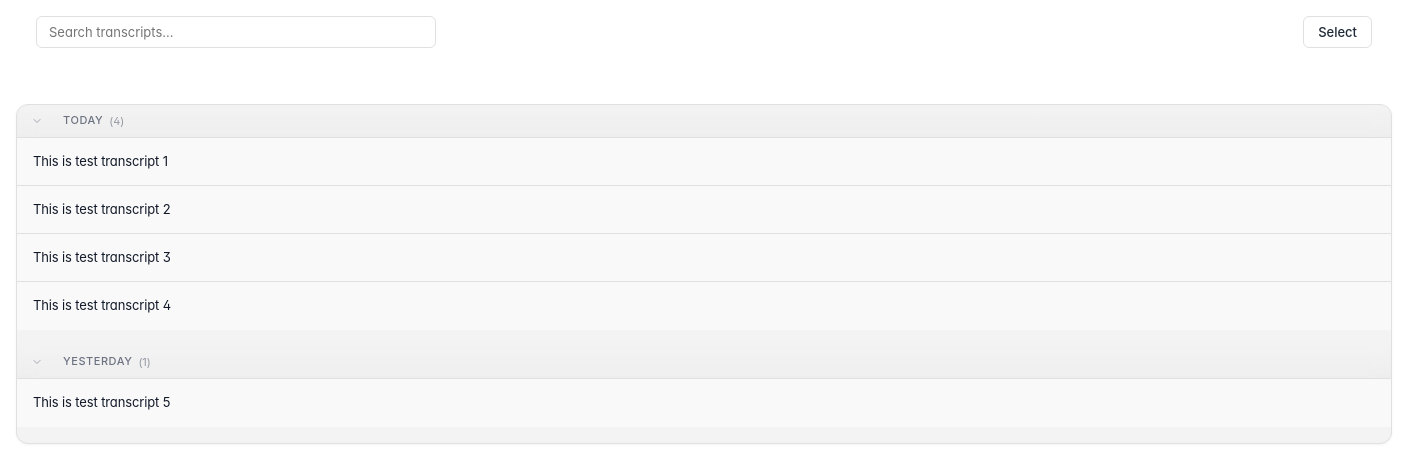
Test: TranscriptsView › Selection Mode › enters selection mode when Select button is clicked
Click the button "Select": (1338, 32) [1303,16,1372,48]
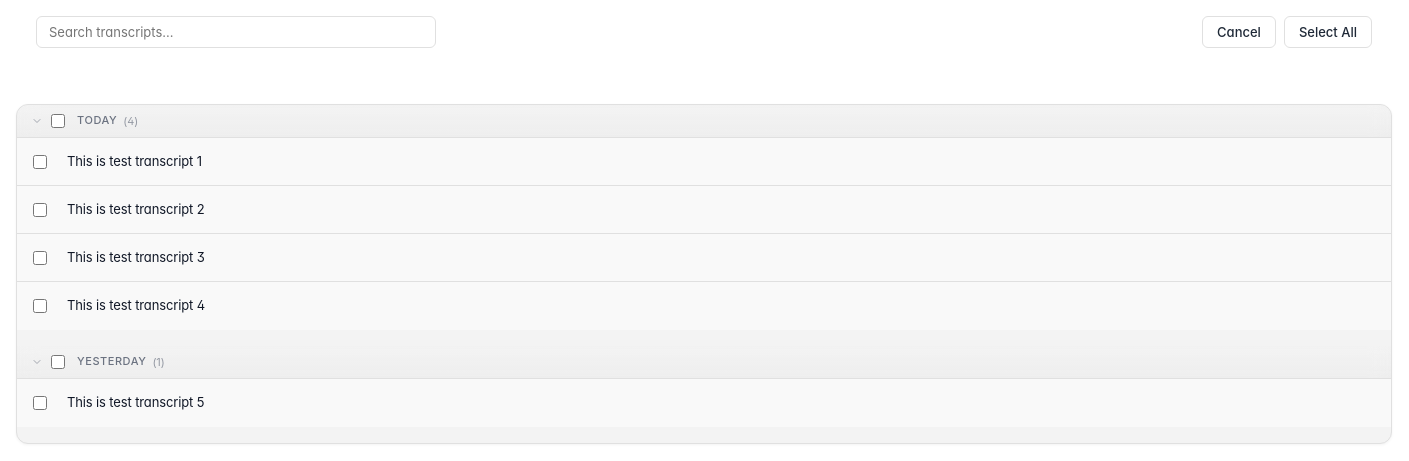
Result: the button "Cancel" is shown at [1202,16,1276,48]
Result: the button "Select All" is shown at [1284,16,1372,48]
